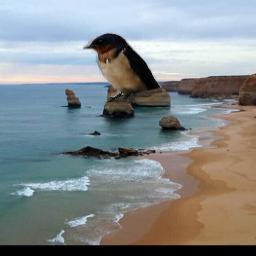Swallow: (84, 32, 163, 102)
